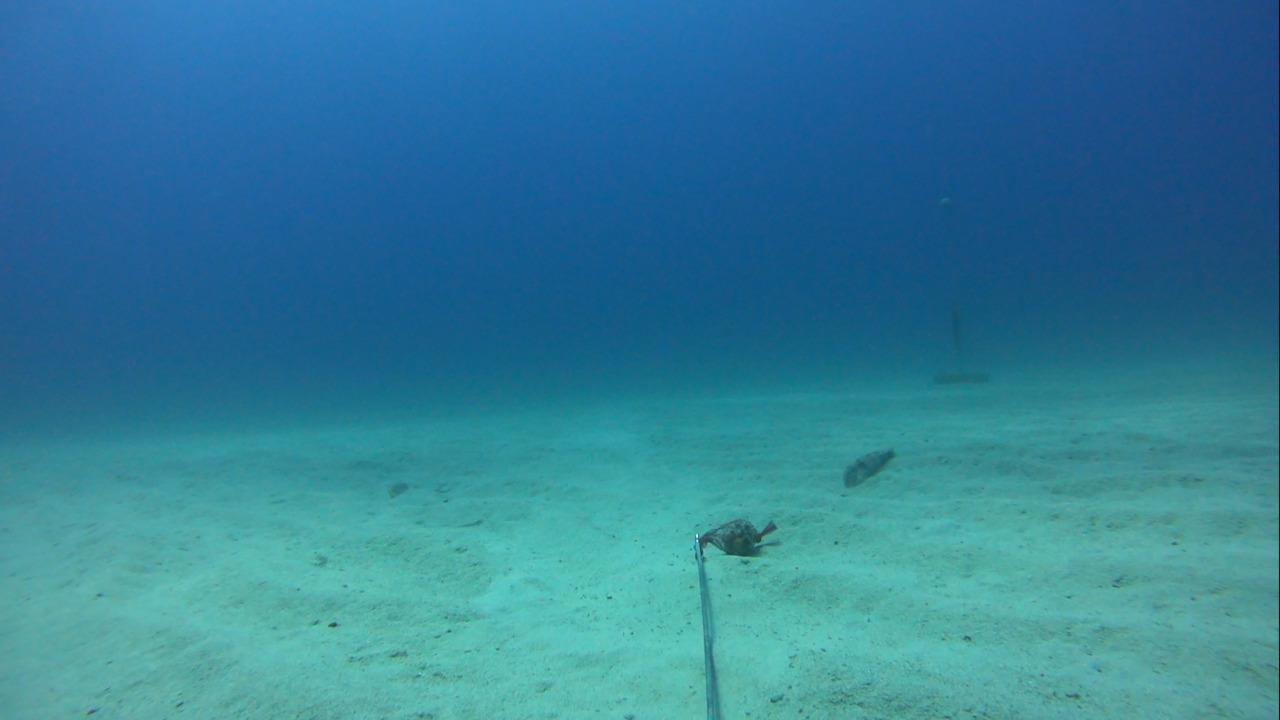raor: (833, 443, 912, 495)
